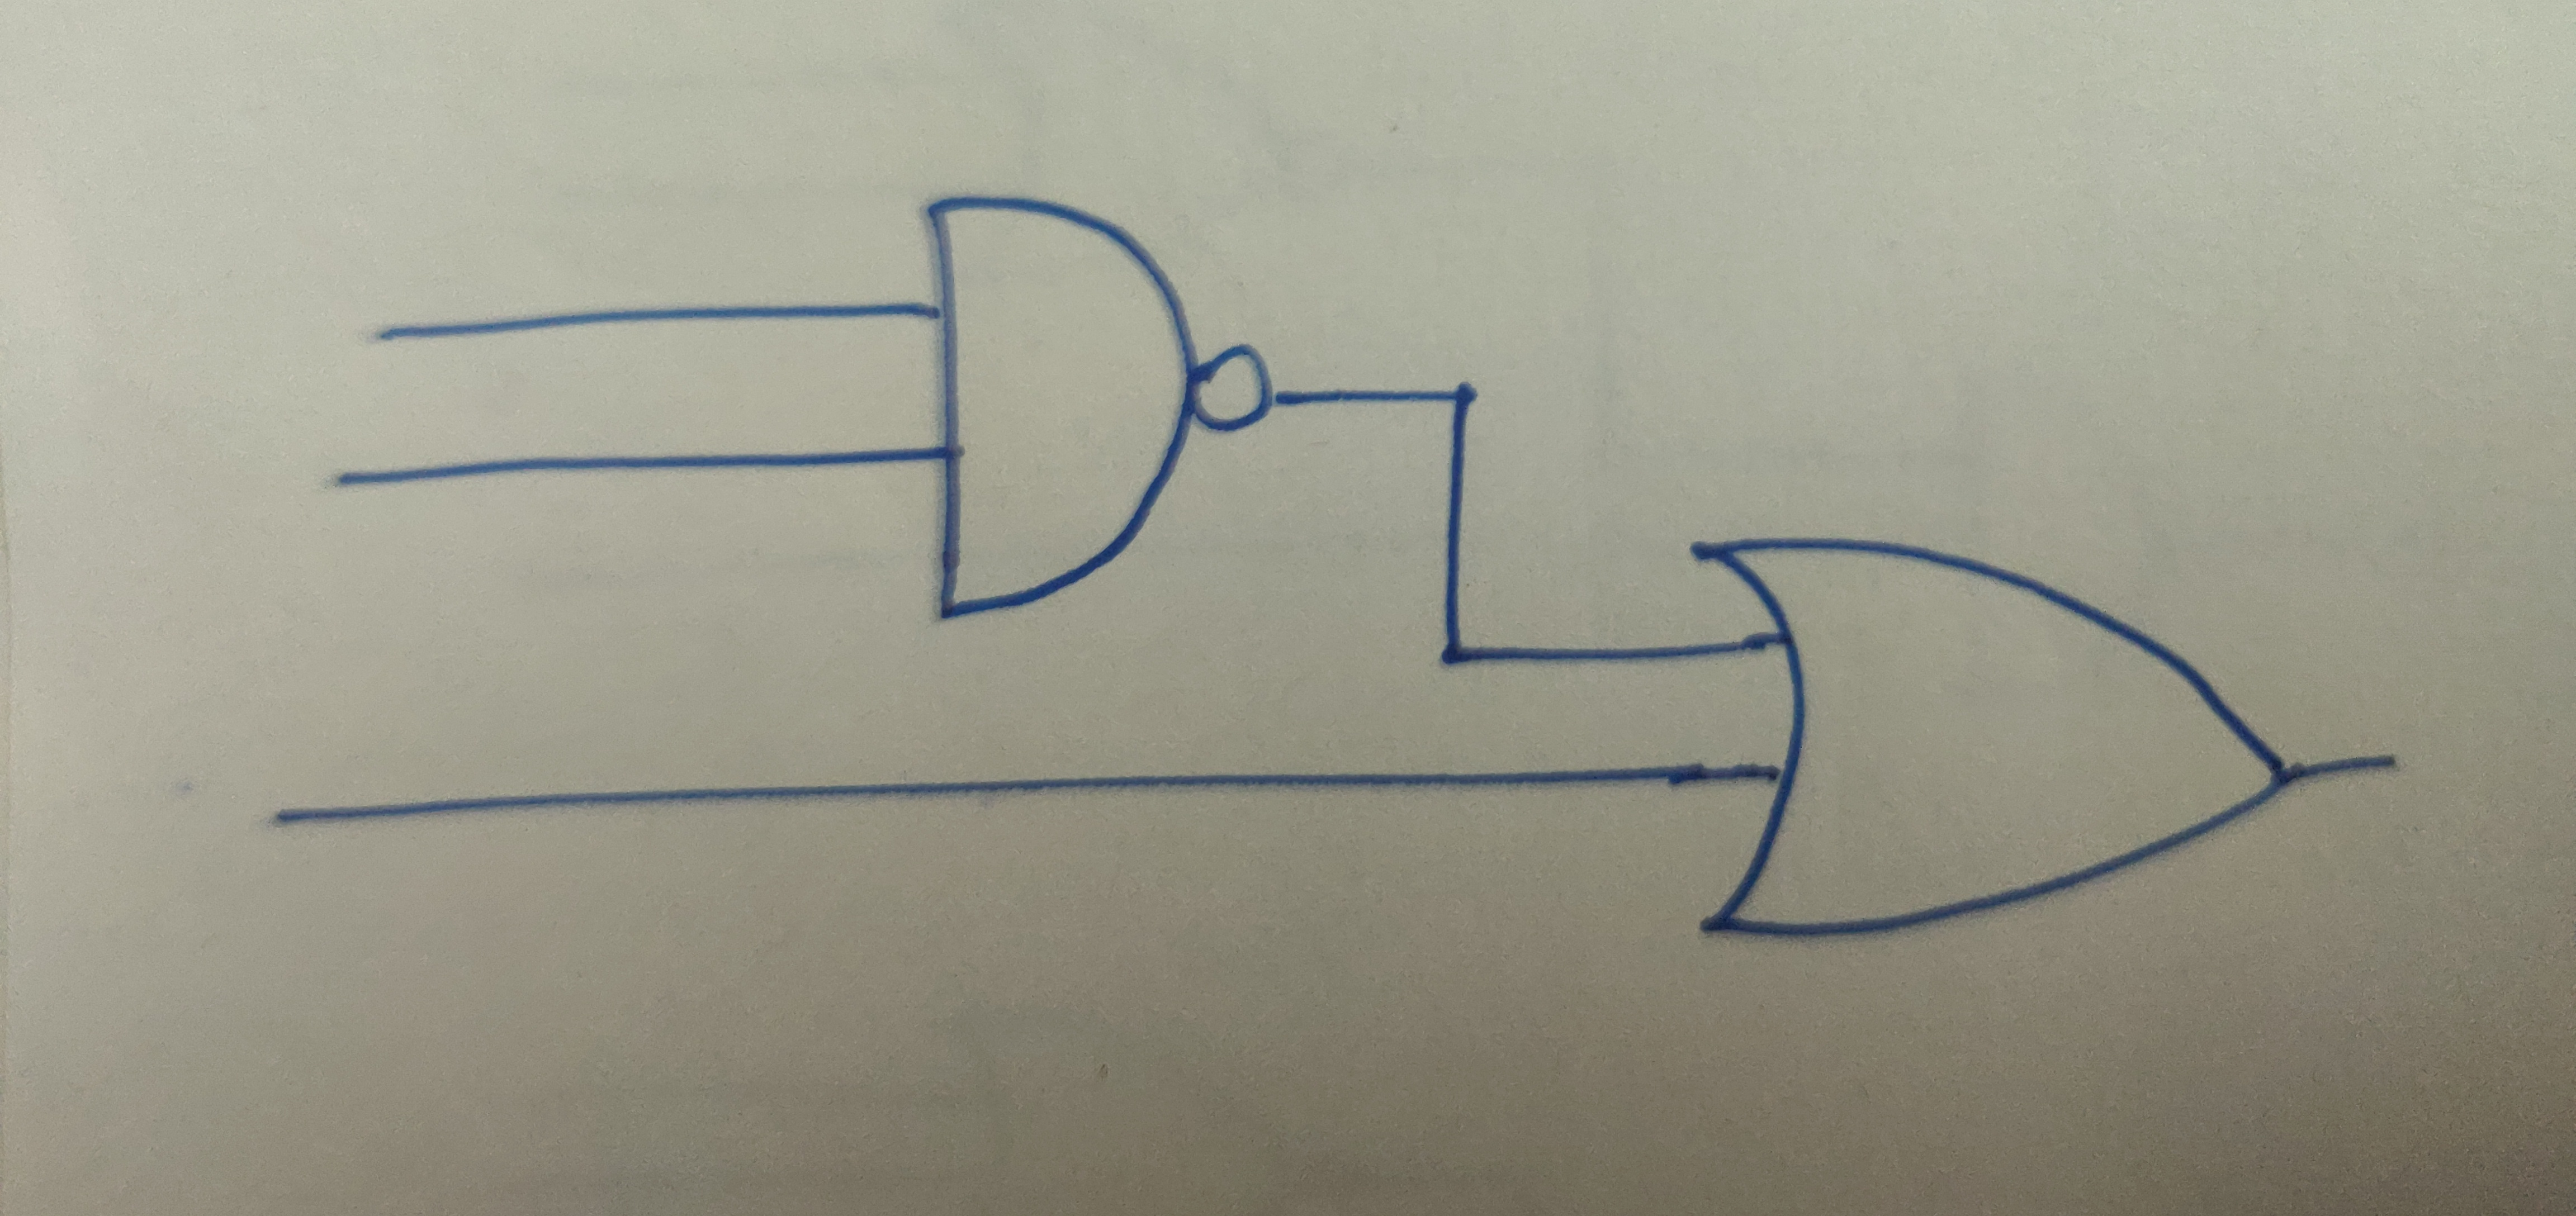and: (917, 191, 1199, 621)
not: (1196, 342, 1281, 444)
or: (1676, 536, 2290, 943)
